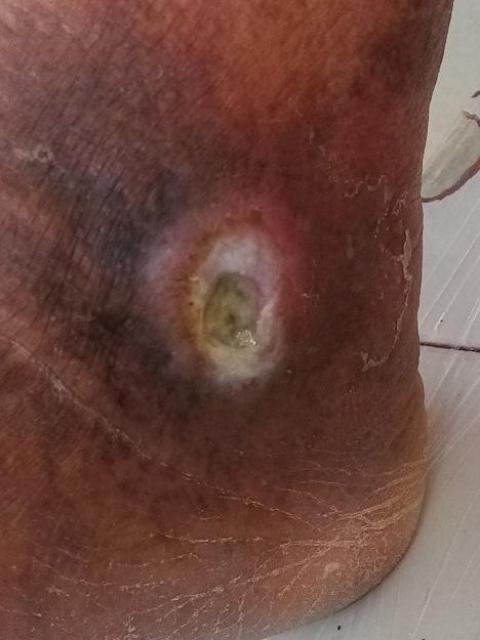wound: (184, 213, 287, 380)
